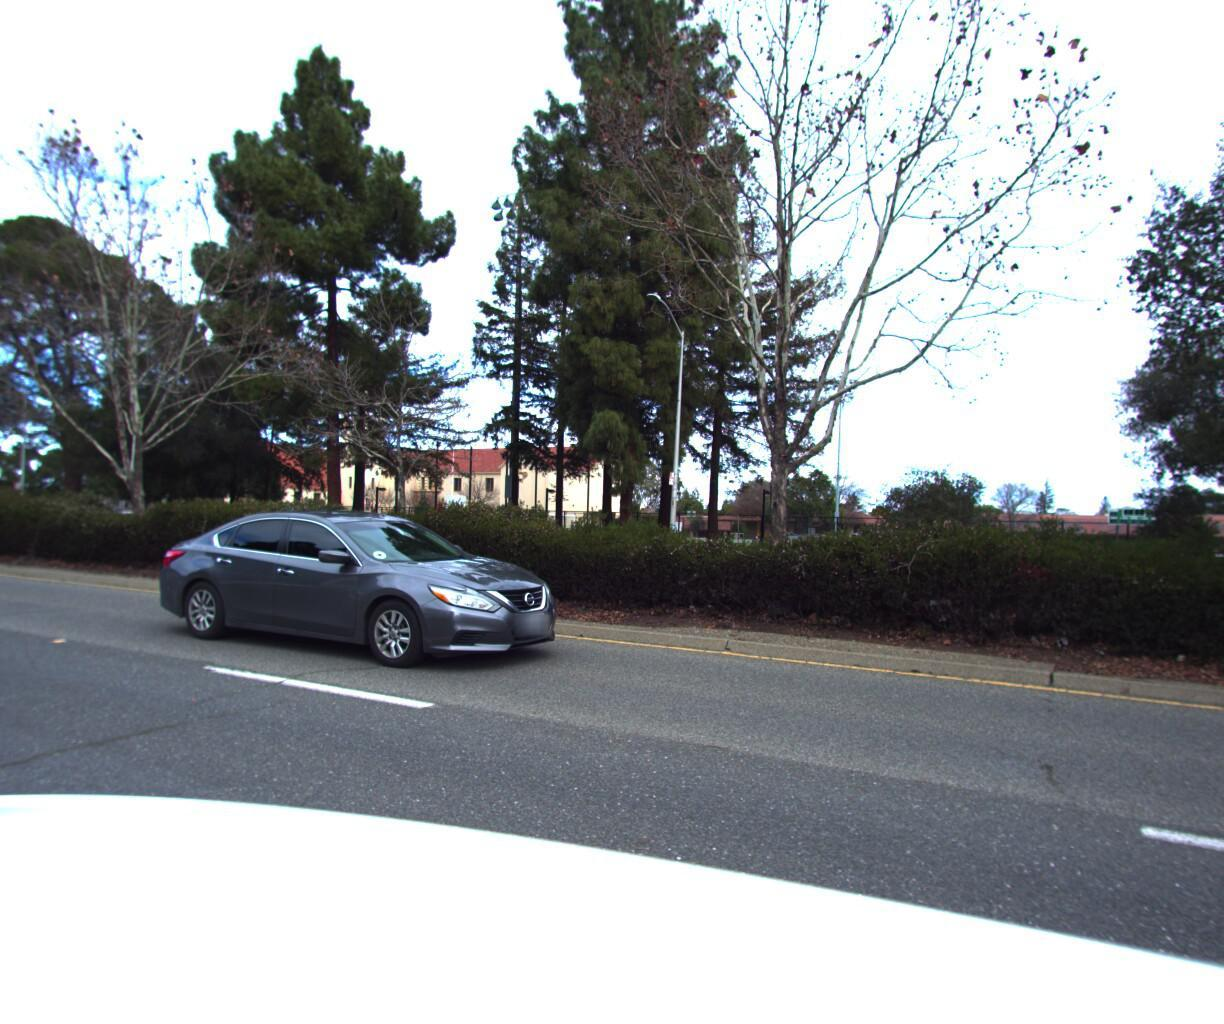car: (154, 502, 591, 684)
